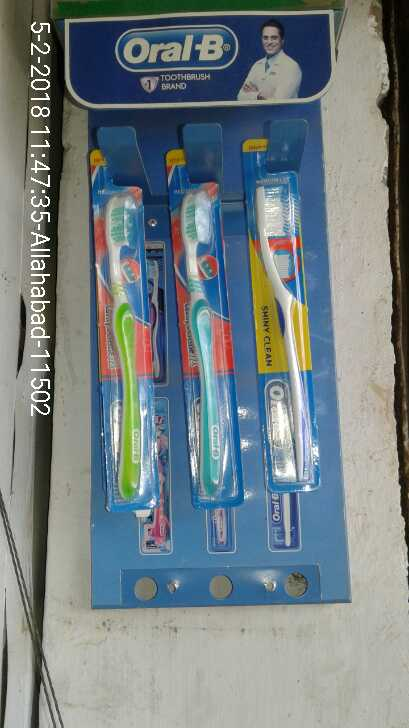oralb: (234, 135, 322, 491), (84, 145, 165, 513), (163, 154, 246, 506)
